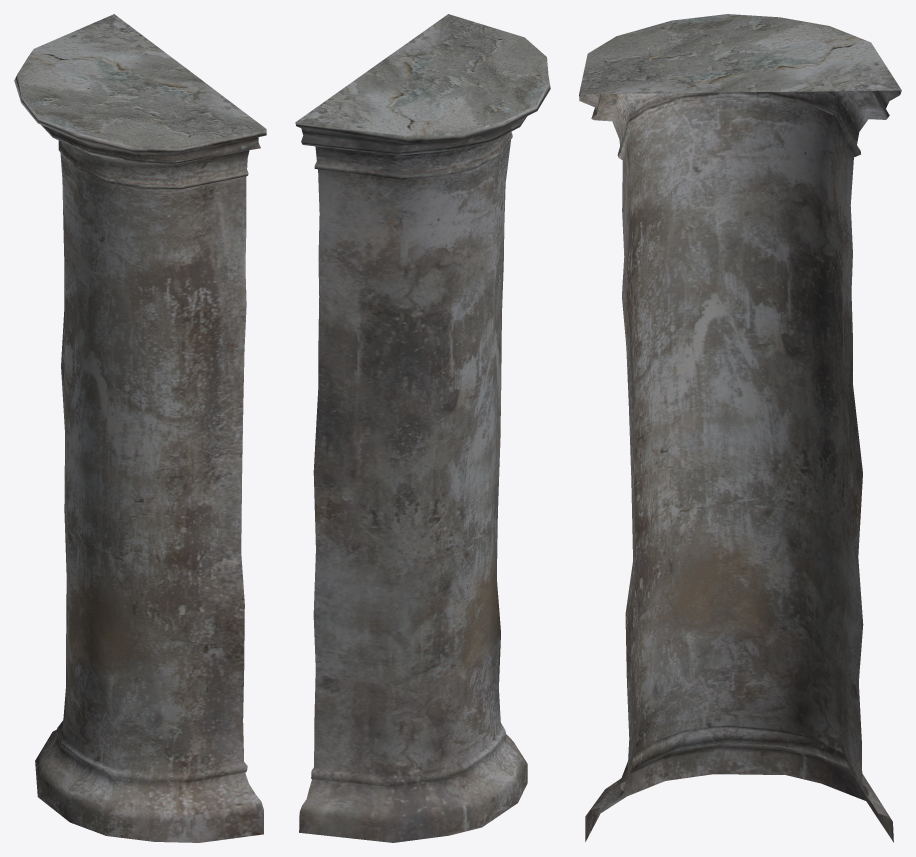
File: sm_CryptColumn_01_01.fbx
3 renders of one model, left to right at view 1: azimuth 30°, elevation 25°; view 2: azimuth 150°, elevation 25°; view 3: azimuth 270°, elevation 25°, orthographic. The views are drawn at different scales.
Visible parts, largest first — view 1: sm_CryptColumn_01_01_LOD0; view 2: sm_CryptColumn_01_01_LOD0; view 3: sm_CryptColumn_01_01_LOD0.
Boxes of the visible parts, <box> form: sm_CryptColumn_01_01_LOD0: <box>14,14,266,842</box>; sm_CryptColumn_01_01_LOD0: <box>295,14,550,842</box>; sm_CryptColumn_01_01_LOD0: <box>579,14,901,842</box>.
Size of the model in its own units: 44.16 by 73.44 by 189.
